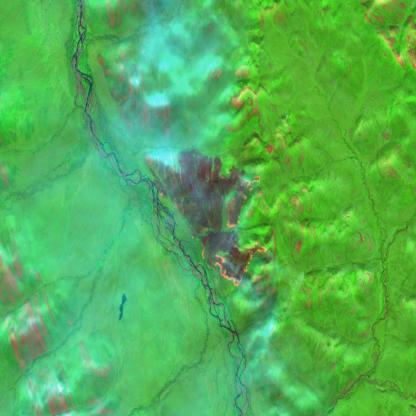fire: (200, 175, 273, 287)
